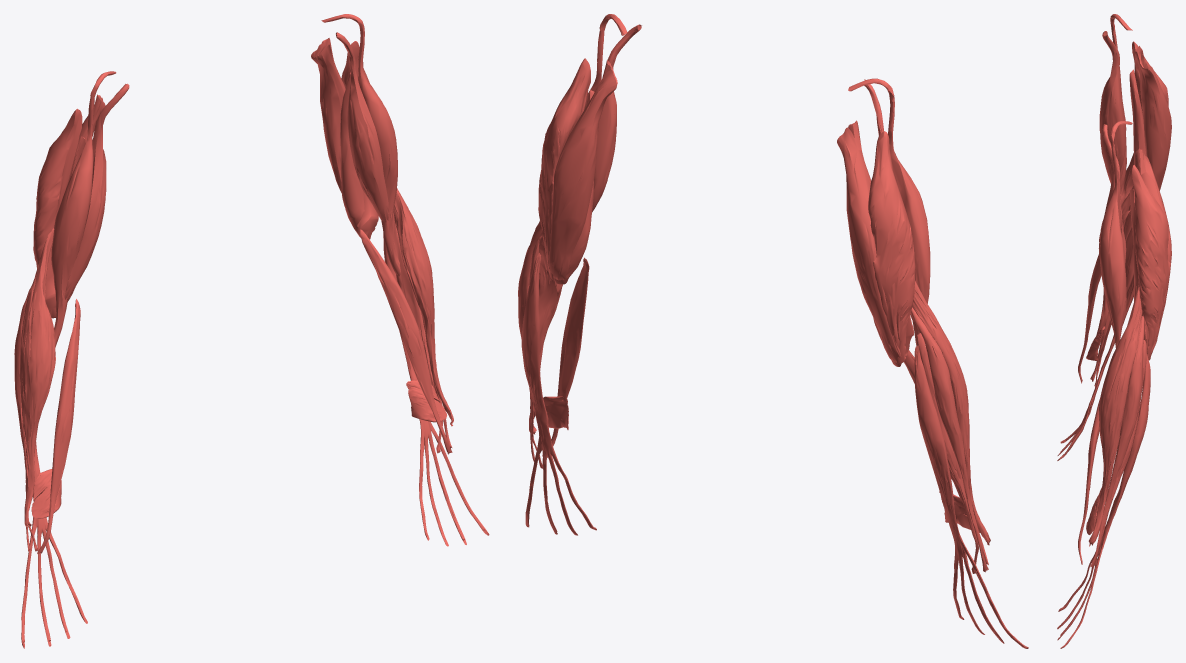
Rendered from supplement-elbow-forearm-muscle.glb.
3 renders of one model, left to right at view 1: azimuth 30°, elevation 25°; view 2: azimuth 150°, elevation 25°; view 3: azimuth 270°, elevation 25°, orthographic. The views are drawn at different scales.
Parts seen in each view (by area): view 1: elbow-forearm:brachioradialis:isa:FJ1487, elbow-forearm:biceps-brachii:isa:FJ1478, elbow-forearm:biceps-brachii:isa:FJ1512M, elbow-forearm:brachioradialis:isa:FJ1487M, elbow-forearm:triceps-brachii:isa:FJ1477, elbow-forearm:biceps-brachii:isa:FJ1478M, elbow-forearm:flexor-carpi-radialis:isa:FJ1496M, elbow-forearm:flexor-carpi-radialis:isa:FJ1496, elbow-forearm:biceps-brachii:isa:FJ1512, elbow-forearm:triceps-brachii:isa:FJ1479M, elbow-forearm:triceps-brachii:isa:FJ1480M, elbow-forearm:extensor-digitorum:isa:FJ1492M (+6 smaller); view 2: elbow-forearm:triceps-brachii:isa:FJ1477, elbow-forearm:triceps-brachii:isa:FJ1479M, elbow-forearm:triceps-brachii:isa:FJ1479, elbow-forearm:extensor-digitorum:isa:FJ1492, elbow-forearm:extensor-digitorum:isa:FJ1492M, elbow-forearm:triceps-brachii:isa:FJ1477M, elbow-forearm:biceps-brachii:isa:FJ1478, elbow-forearm:extensor-carpi-radialis-longus:isa:FJ1490, elbow-forearm:brachioradialis:isa:FJ1487, elbow-forearm:flexor-carpi-radialis:isa:FJ1496M, elbow-forearm:biceps-brachii:isa:FJ1512M, elbow-forearm:brachioradialis:isa:FJ1487M (+5 smaller); view 3: elbow-forearm:triceps-brachii:isa:FJ1477M, elbow-forearm:brachioradialis:isa:FJ1487M, elbow-forearm:biceps-brachii:isa:FJ1478M, elbow-forearm:triceps-brachii:isa:FJ1479, elbow-forearm:extensor-digitorum:isa:FJ1492M, elbow-forearm:biceps-brachii:isa:FJ1512, elbow-forearm:extensor-carpi-radialis-longus:isa:FJ1490M, elbow-forearm:triceps-brachii:isa:FJ1479M, elbow-forearm:triceps-brachii:isa:FJ1480, elbow-forearm:extensor-digitorum:isa:FJ1492, elbow-forearm:flexor-carpi-radialis:isa:FJ1496M, elbow-forearm:flexor-carpi-radialis:isa:FJ1496 (+10 smaller).
Part boxes in pixels (box(x1,y1,x2,y2)): elbow-forearm:brachioradialis:isa:FJ1487: box(19, 228, 55, 529); elbow-forearm:biceps-brachii:isa:FJ1478: box(51, 71, 116, 347); elbow-forearm:biceps-brachii:isa:FJ1512M: box(336, 32, 389, 222); elbow-forearm:brachioradialis:isa:FJ1487M: box(393, 188, 453, 426); elbow-forearm:triceps-brachii:isa:FJ1477: box(33, 108, 82, 268); elbow-forearm:biceps-brachii:isa:FJ1478M: box(321, 14, 400, 276); elbow-forearm:flexor-carpi-radialis:isa:FJ1496M: box(360, 229, 452, 454); elbow-forearm:flexor-carpi-radialis:isa:FJ1496: box(37, 299, 80, 553); elbow-forearm:biceps-brachii:isa:FJ1512: box(64, 83, 129, 299); elbow-forearm:triceps-brachii:isa:FJ1479M: box(311, 38, 345, 193); elbow-forearm:triceps-brachii:isa:FJ1480M: box(340, 71, 378, 239); elbow-forearm:extensor-digitorum:isa:FJ1492M: box(383, 233, 489, 546); elbow-forearm:triceps-brachii:isa:FJ1477: box(868, 131, 915, 363); elbow-forearm:triceps-brachii:isa:FJ1479M: box(548, 60, 617, 280); elbow-forearm:triceps-brachii:isa:FJ1479: box(837, 120, 901, 362); elbow-forearm:extensor-digitorum:isa:FJ1492: box(914, 345, 1028, 648); elbow-forearm:extensor-digitorum:isa:FJ1492M: box(521, 253, 596, 535); elbow-forearm:triceps-brachii:isa:FJ1477M: box(538, 58, 590, 279); elbow-forearm:biceps-brachii:isa:FJ1478: box(848, 78, 930, 346); elbow-forearm:extensor-carpi-radialis-longus:isa:FJ1490: box(911, 307, 988, 572); elbow-forearm:brachioradialis:isa:FJ1487: box(912, 280, 990, 545); elbow-forearm:flexor-carpi-radialis:isa:FJ1496M: box(542, 257, 589, 457); elbow-forearm:biceps-brachii:isa:FJ1512M: box(592, 24, 641, 212); elbow-forearm:brachioradialis:isa:FJ1487M: box(529, 221, 561, 434); elbow-forearm:triceps-brachii:isa:FJ1477M: box(1132, 165, 1170, 360); elbow-forearm:brachioradialis:isa:FJ1487M: box(1088, 280, 1142, 546); elbow-forearm:biceps-brachii:isa:FJ1478M: box(1099, 121, 1132, 347); elbow-forearm:triceps-brachii:isa:FJ1479: box(1135, 46, 1171, 190); elbow-forearm:extensor-digitorum:isa:FJ1492M: box(1057, 354, 1150, 648); elbow-forearm:biceps-brachii:isa:FJ1512: box(1099, 31, 1126, 186); elbow-forearm:extensor-carpi-radialis-longus:isa:FJ1490M: box(1090, 316, 1144, 567); elbow-forearm:triceps-brachii:isa:FJ1479M: box(1135, 148, 1171, 354); elbow-forearm:triceps-brachii:isa:FJ1480: box(1129, 69, 1146, 191); elbow-forearm:extensor-digitorum:isa:FJ1492: box(1057, 275, 1133, 460); elbow-forearm:flexor-carpi-radialis:isa:FJ1496M: box(1078, 398, 1100, 564); elbow-forearm:flexor-carpi-radialis:isa:FJ1496: box(1078, 210, 1130, 383).
Size of the model in its own units: 0.6101 by 0.6614 by 0.1438.
